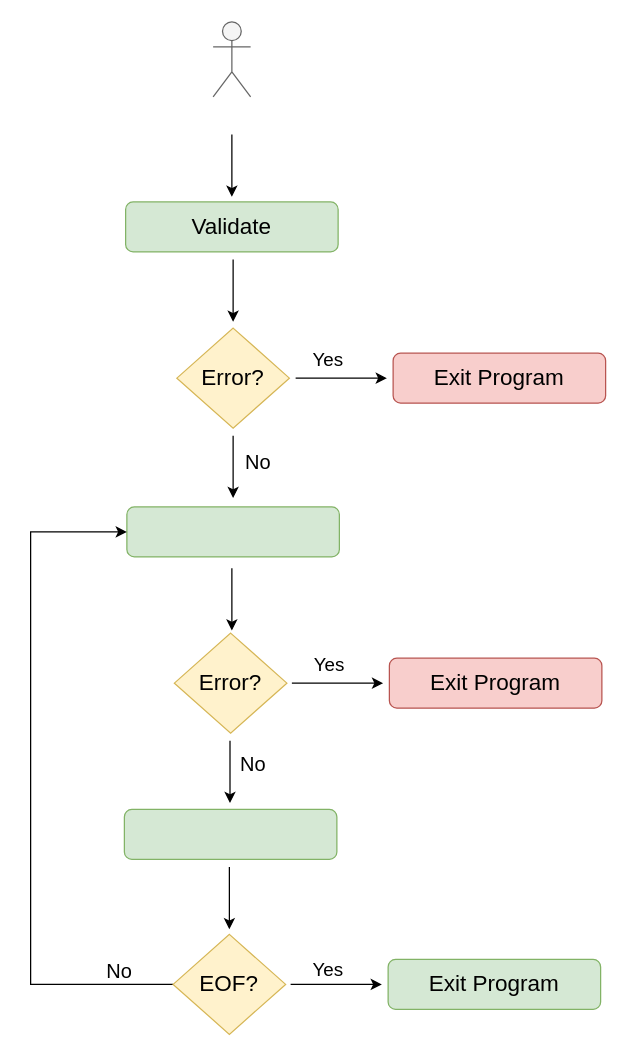
The diagram is 628 pixels wide and 1056 high, and some of its shapes have lost their labels. The centre of each missing label's shape, as x and y in pixels:
"Calculate MSE" goes at [230,833].
"Read CSV Line" goes at [232,531].
"User" goes at [231,59].
